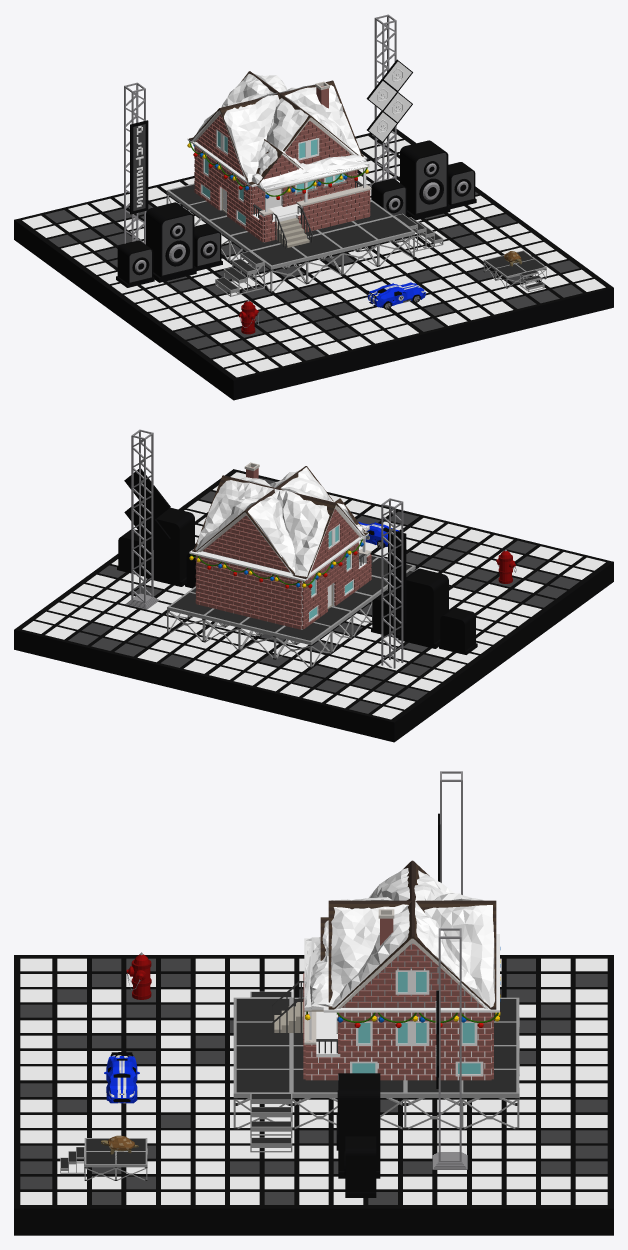
3 views of the same model, one above another, from view 1: azimuth 30°, elevation 25°; view 2: azimuth 150°, elevation 25°; view 3: azimuth 270°, elevation 25° (orthographic). The views are drawn at different scales.
Visible parts, largest first — view 1: Cube.008, Cube.1419, VEHICLES_RACING_CAR; view 2: Cube.008, Cube.1419, OBJRANDOM_FIRE_HYDRANT, VEHICLES_RACING_CAR; view 3: Cube.008, Cube.1419, VEHICLES_RACING_CAR, OBJRANDOM_FIRE_HYDRANT.
Part boxes in pixels (x1=…): Cube.008: x1=14, y1=14, x2=613, y2=400; Cube.1419: x1=187, y1=71, x2=371, y2=248; VEHICLES_RACING_CAR: x1=367, y1=282, x2=425, y2=309; Cube.008: x1=14, y1=429, x2=613, y2=742; Cube.1419: x1=189, y1=462, x2=372, y2=629; OBJRANDOM_FIRE_HYDRANT: x1=496, y1=549, x2=516, y2=583; VEHICLES_RACING_CAR: x1=358, y1=521, x2=400, y2=548; Cube.008: x1=14, y1=771, x2=613, y2=1235; Cube.1419: x1=272, y1=860, x2=500, y2=1080; VEHICLES_RACING_CAR: x1=104, y1=1052, x2=139, y2=1103; OBJRANDOM_FIRE_HYDRANT: x1=126, y1=952, x2=151, y2=999.
Size of the model in its own units: 4000 by 1945 by 4000.
45 materials, 1 textured.
